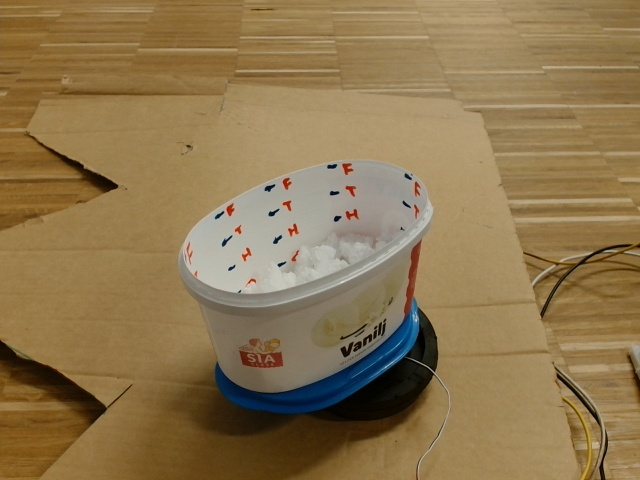Big_quarter: (178, 155, 435, 317)
